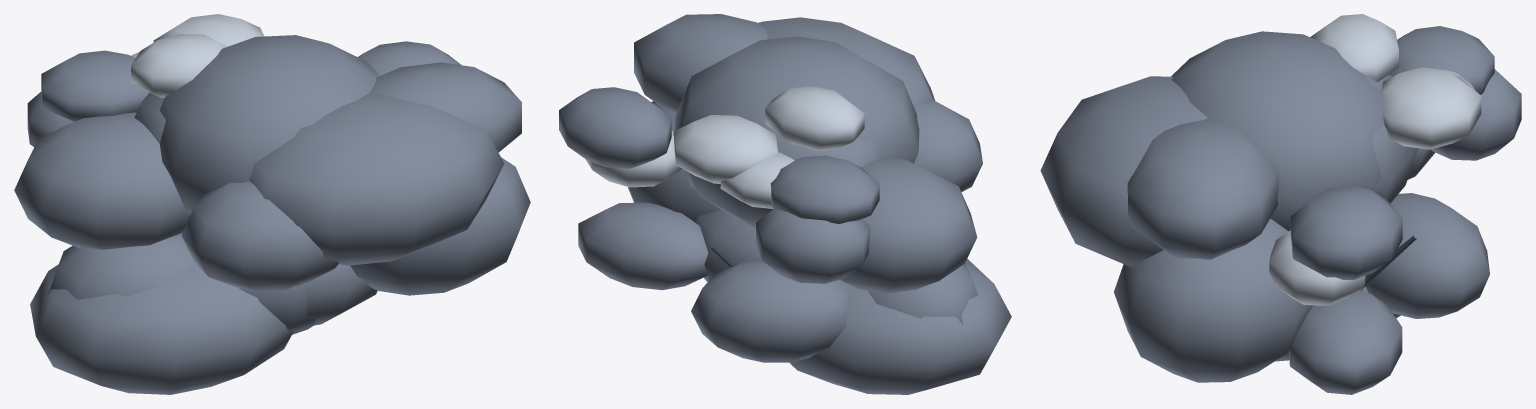
File: 低矮圆灌木-lite.glb
3 renders of one model, left to right at view 1: azimuth 30°, elevation 25°; view 2: azimuth 150°, elevation 25°; view 3: azimuth 270°, elevation 25°, orthographic. The views are drawn at different scales.
Visible parts, largest first — view 1: garden-shrub-low-leaf, garden-shrub-low-light; view 2: garden-shrub-low-leaf, garden-shrub-low-light; view 3: garden-shrub-low-leaf, garden-shrub-low-light.
Part boxes in pixels (bbox=[...]): garden-shrub-low-leaf: bbox=[14, 35, 530, 394]; garden-shrub-low-light: bbox=[131, 14, 264, 98]; garden-shrub-low-leaf: bbox=[559, 14, 1011, 394]; garden-shrub-low-light: bbox=[585, 86, 864, 208]; garden-shrub-low-leaf: bbox=[1040, 26, 1521, 394]; garden-shrub-low-light: bbox=[1269, 14, 1481, 305].
Size of the model in its own units: 0.95 by 0.65 by 0.85.
